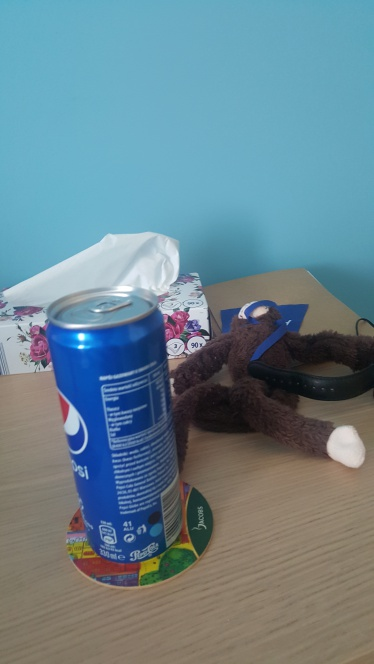pepsi: (46, 281, 195, 561)
